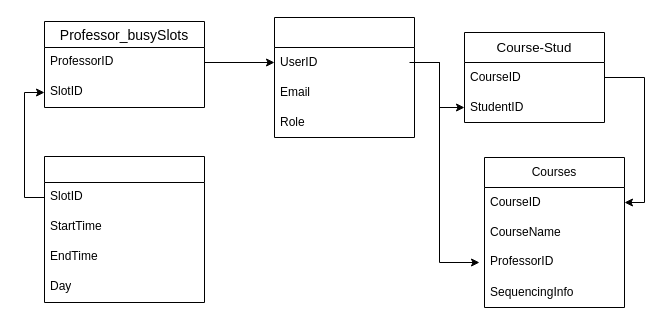
This 670x325 diagram has some shape labels left out. Here are the shapes that lost their labels. From the top down, the box of each, then its label:
(274, 16, 414, 138): Users
(44, 156, 204, 302): Slots
